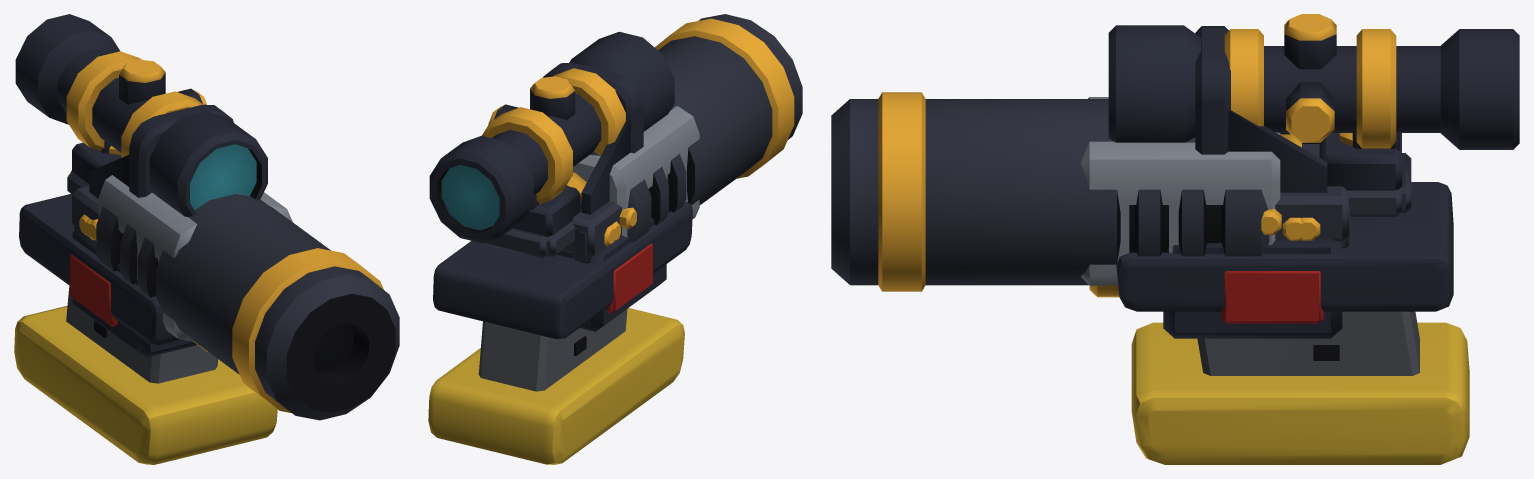
File: attachments.glb
3 renders of one model, left to right at view 1: azimuth 30°, elevation 25°; view 2: azimuth 150°, elevation 25°; view 3: azimuth 270°, elevation 25°, orthographic. The views are drawn at different scales.
Parts seen in each view (by area): view 1: att_muzzle_supp, att_mag_ext, att_sight_2x, att_sight_holo, att_muzzle_comp, att_laser; view 2: att_mag_ext, att_sight_2x, att_muzzle_supp, att_sight_holo, att_laser, att_muzzle_comp; view 3: att_mag_ext, att_muzzle_supp, att_sight_2x, att_laser, att_sight_holo, att_muzzle_comp.
Boxes of the visible parts, x1=… form: att_muzzle_supp: x1=96, y1=192, x2=399, y2=420; att_mag_ext: x1=14, y1=194, x2=277, y2=464; att_sight_2x: x1=15, y1=14, x2=267, y2=235; att_sight_holo: x1=67, y1=104, x2=233, y2=240; att_muzzle_comp: x1=98, y1=175, x2=292, y2=340; att_laser: x1=70, y1=186, x2=209, y2=357; att_mag_ext: x1=428, y1=202, x2=692, y2=464; att_sight_2x: x1=429, y1=31, x2=674, y2=263; att_muzzle_supp: x1=590, y1=14, x2=802, y2=242; att_sight_holo: x1=513, y1=62, x2=643, y2=257; att_laser: x1=556, y1=201, x2=666, y2=331; att_muzzle_comp: x1=566, y1=106, x2=699, y2=237; att_mag_ext: x1=1116, y1=182, x2=1469, y2=464; att_muzzle_supp: x1=831, y1=92, x2=1269, y2=291; att_sight_2x: x1=1108, y1=14, x2=1519, y2=247; att_laser: x1=1089, y1=144, x2=1348, y2=338; att_sight_holo: x1=1195, y1=26, x2=1401, y2=240; att_muzzle_comp: x1=1081, y1=97, x2=1301, y2=285.
Size of the model in its own units: 0.2099 by 0.478 by 0.73.
3 materials, 1 textured.
